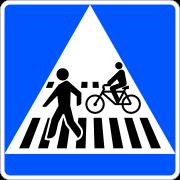Cycle Crossing: (15, 17, 168, 164)
